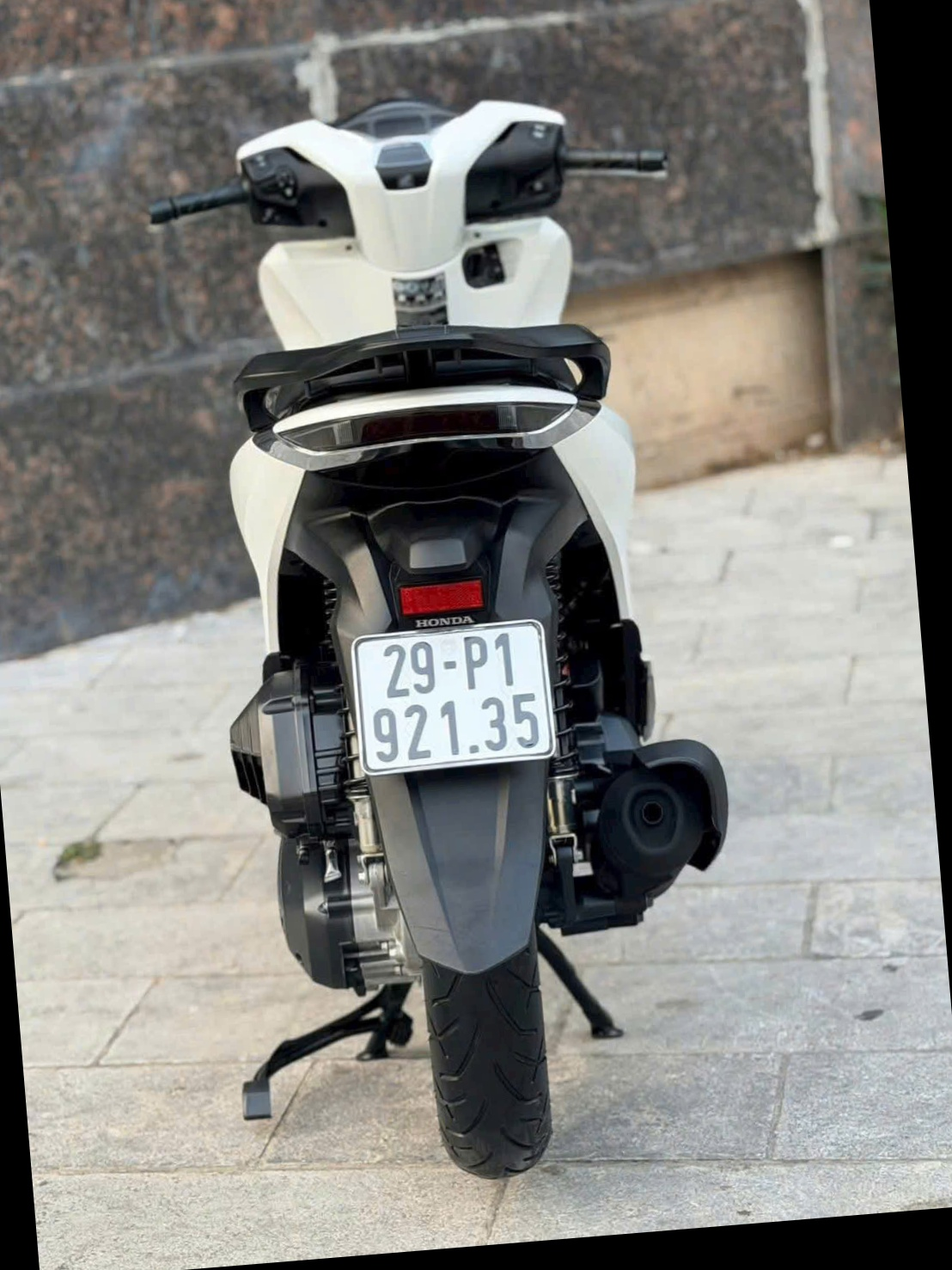Bien-so: (338, 681, 555, 837)
